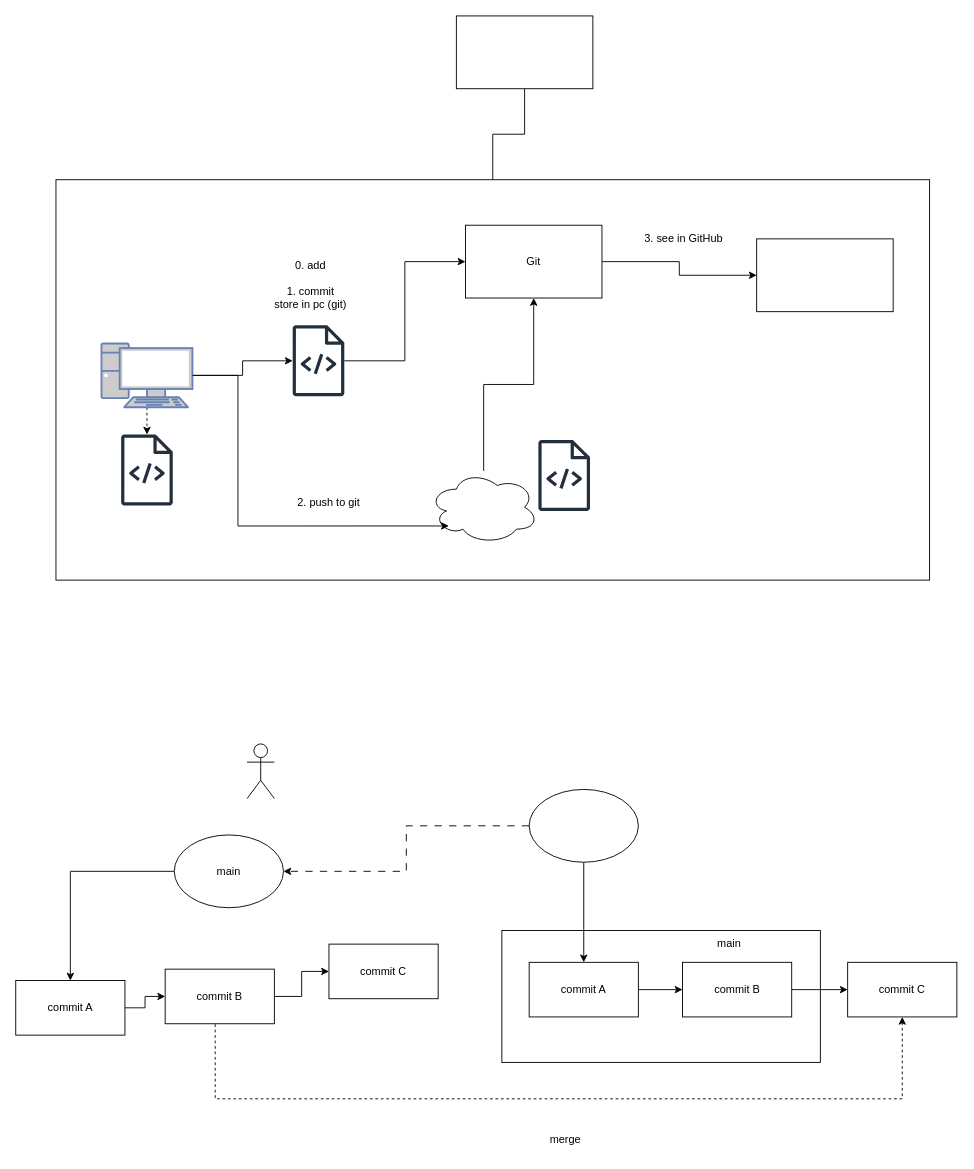
Some shapes in this 974 by 1169 pixel diagram are drawn without their labels. Here are the shapes that lost their labels. From the top down, the centre of each, then its label:
At point (524, 52): "Repo".
At point (824, 275): "GitHub".
At point (260, 771): "Actor".
At point (583, 825): "ethan-test".
